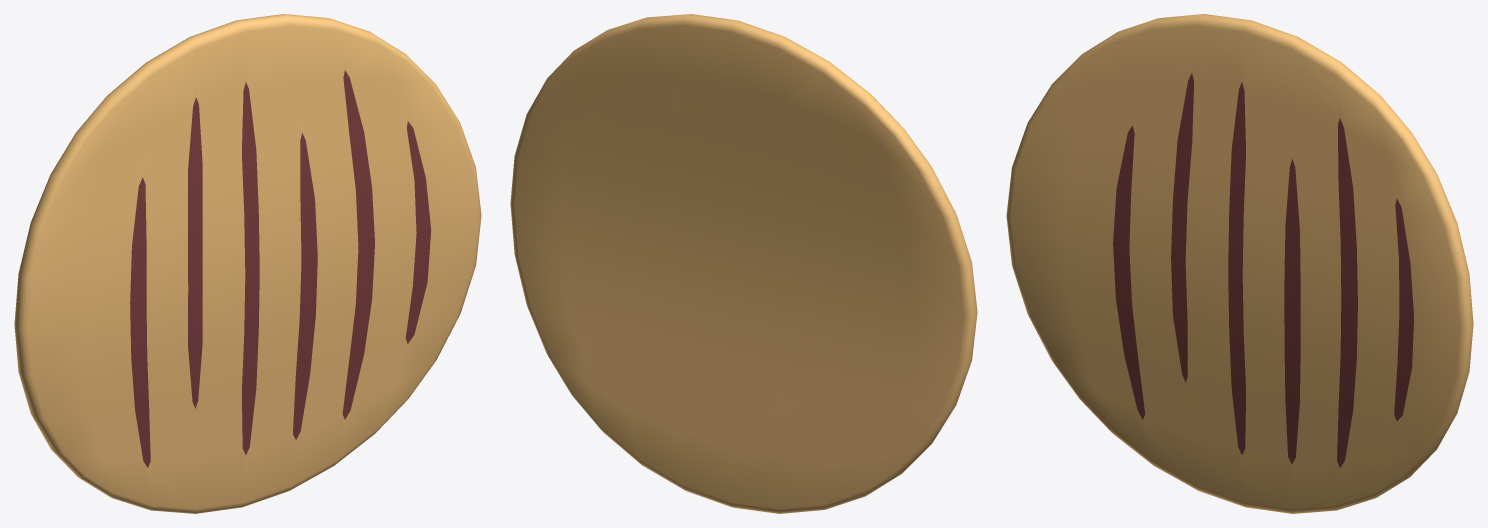
File: flatbread.glb
3 renders of one model, left to right at view 1: azimuth 30°, elevation 25°; view 2: azimuth 150°, elevation 25°; view 3: azimuth 330°, elevation 25°, orthographic.
Visible parts, largest first — view 1: Plane.202; view 2: Plane.202; view 3: Plane.202.
Part boxes in pixels (x1=…): Plane.202: x1=14, y1=14, x2=481, y2=513; Plane.202: x1=510, y1=14, x2=977, y2=513; Plane.202: x1=1006, y1=14, x2=1473, y2=513.
Size of the model in its own units: 2.42 by 2.42 by 0.1583.
1 material, 1 textured.
